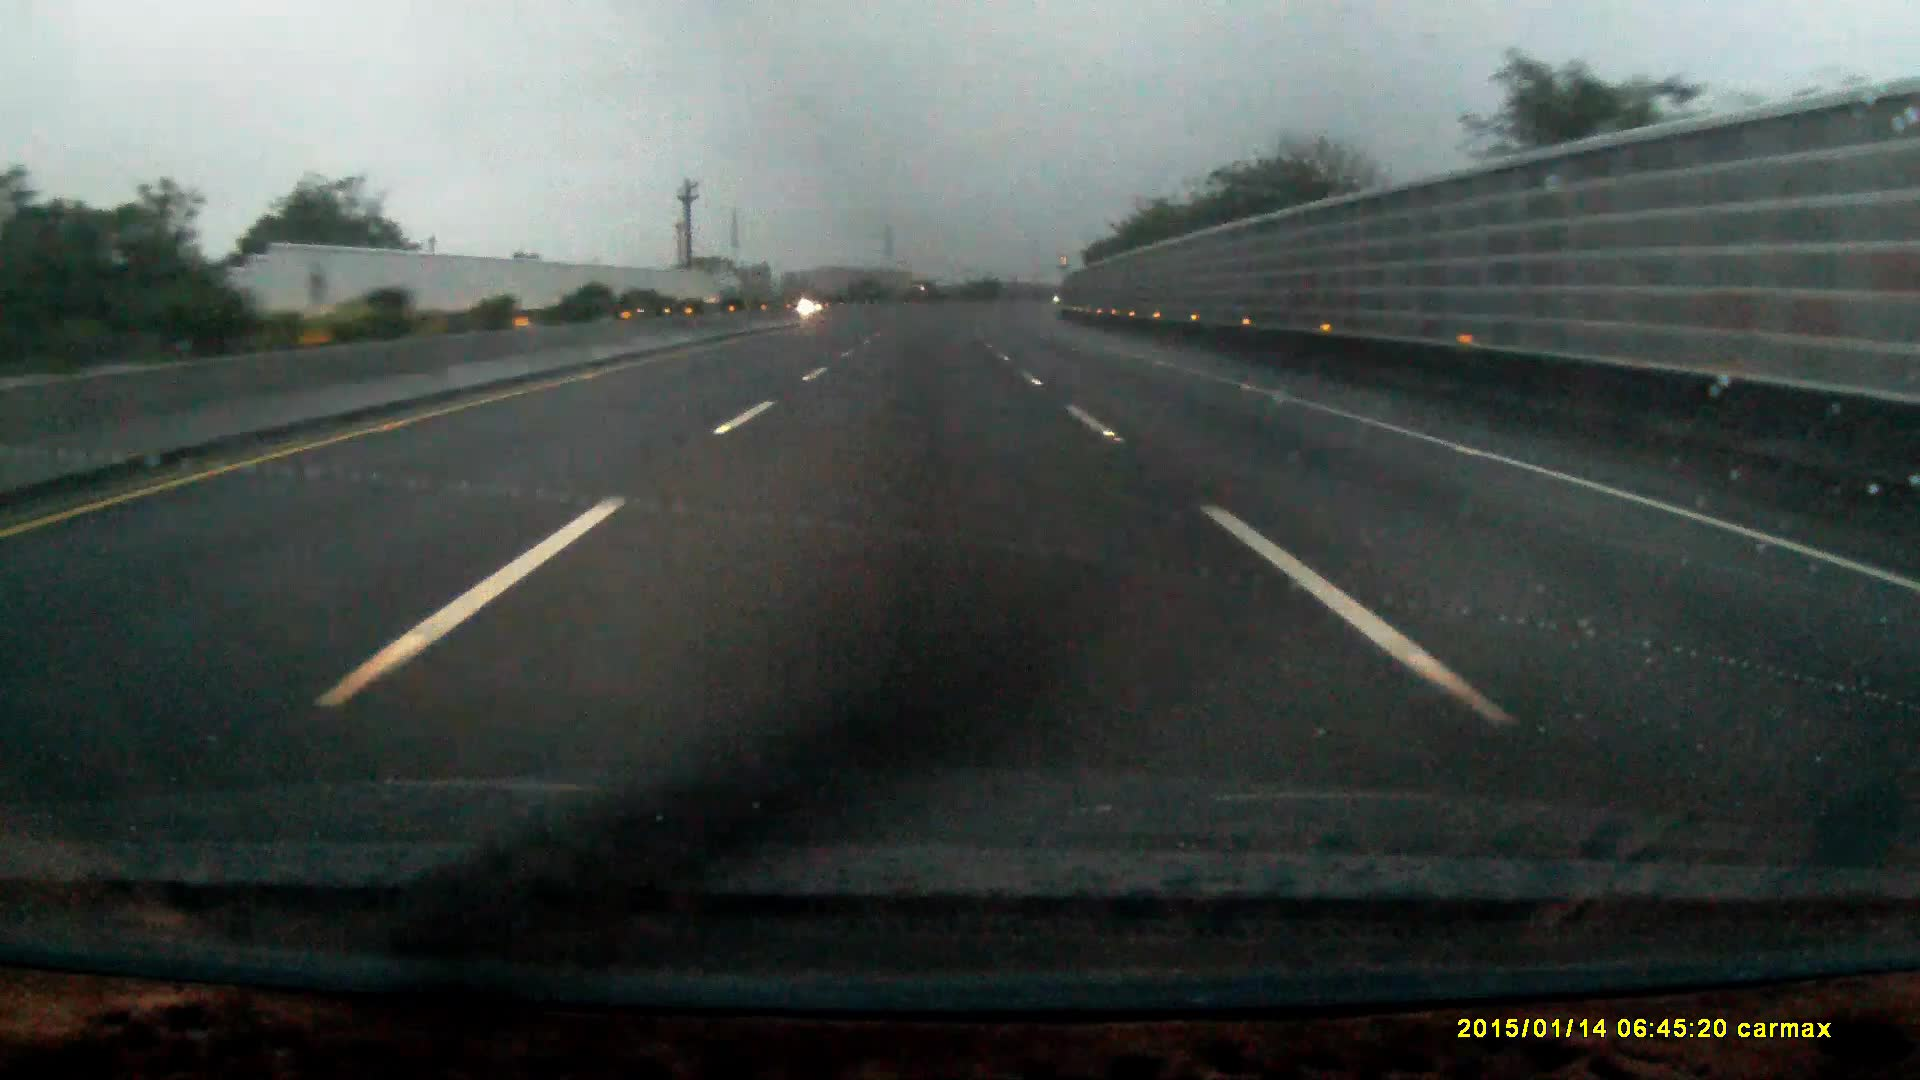vehicle: (909, 280, 935, 302)
